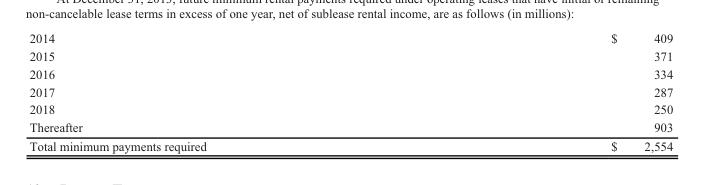table: (28, 29, 672, 154)
table column: (28, 29, 408, 154), (408, 29, 672, 154)
table row: (28, 117, 672, 136), (28, 46, 672, 64), (28, 64, 672, 82), (28, 82, 672, 100), (28, 136, 672, 154), (28, 29, 672, 46), (28, 100, 672, 117)
